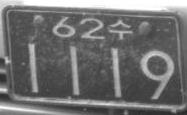1: (60, 45, 92, 95), (102, 47, 133, 97), (20, 43, 47, 92)
2: (79, 17, 105, 39)
6: (52, 16, 75, 37)
9: (139, 49, 175, 99)
수: (108, 18, 132, 39)
